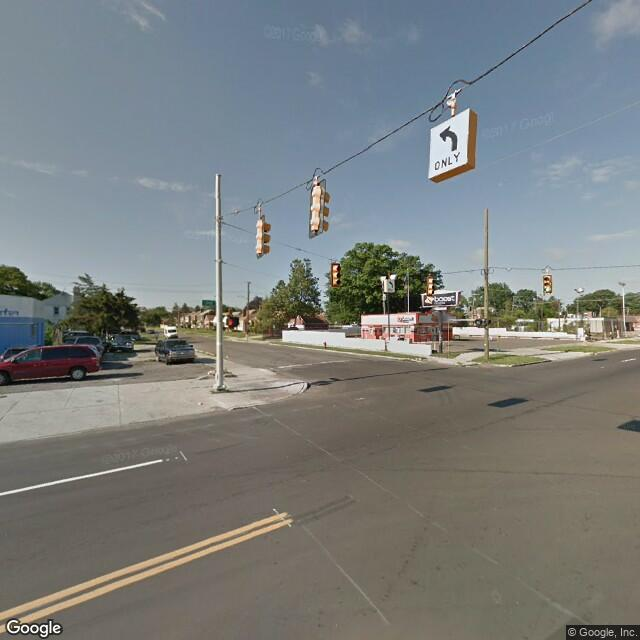litter: (189, 398, 211, 410)
